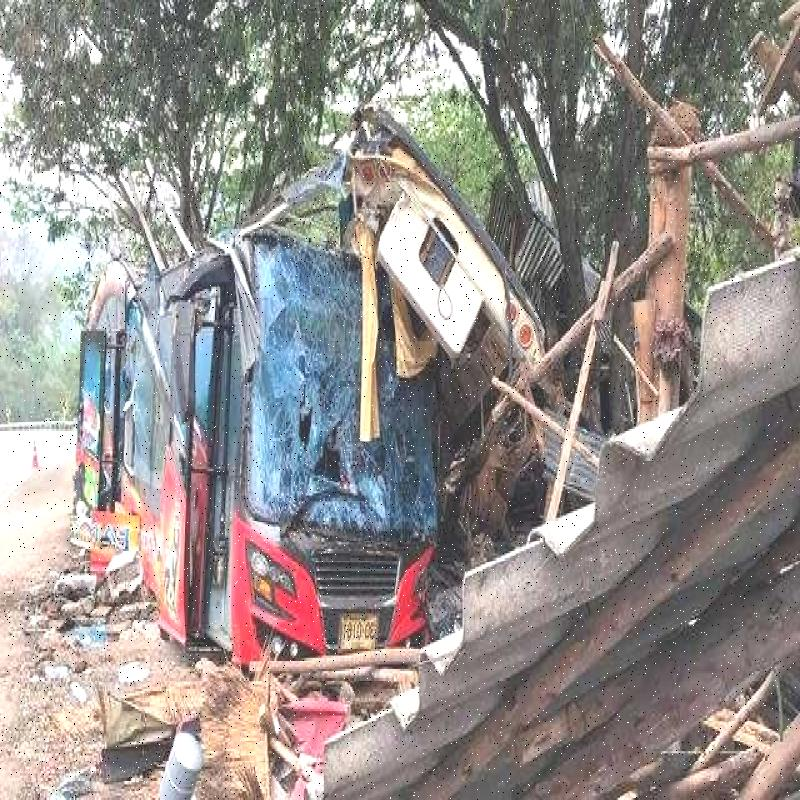bus: (203, 224, 491, 731)
